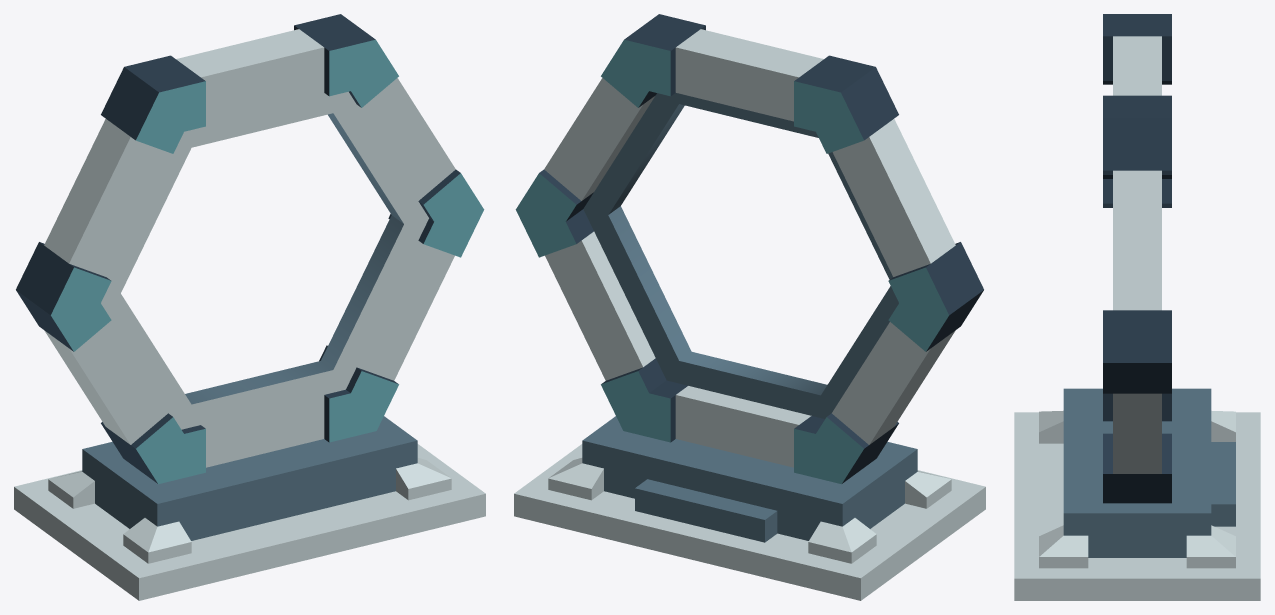
Rendered from gate_complex.glb.
3 renders of one model, left to right at view 1: azimuth 30°, elevation 25°; view 2: azimuth 150°, elevation 25°; view 3: azimuth 270°, elevation 25°, orthographic.
Parts seen in each view (by area): view 1: gate_complex; view 2: gate_complex; view 3: gate_complex.
Part boxes in pixels (x1=…): gate_complex: x1=14, y1=14, x2=485, y2=600; gate_complex: x1=514, y1=14, x2=985, y2=600; gate_complex: x1=1014, y1=14, x2=1260, y2=600.
Bounding box in the file's own units: 1 × 1.01 × 0.5.
